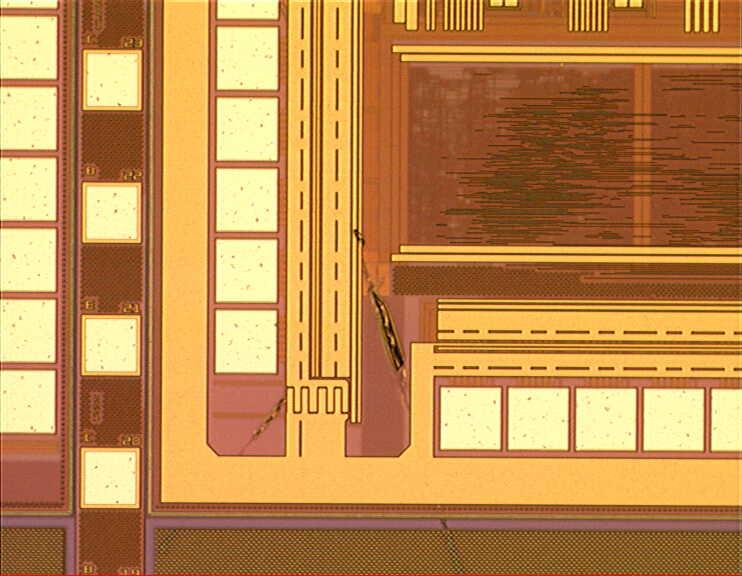SCRATCH: (153, 216, 465, 576)
